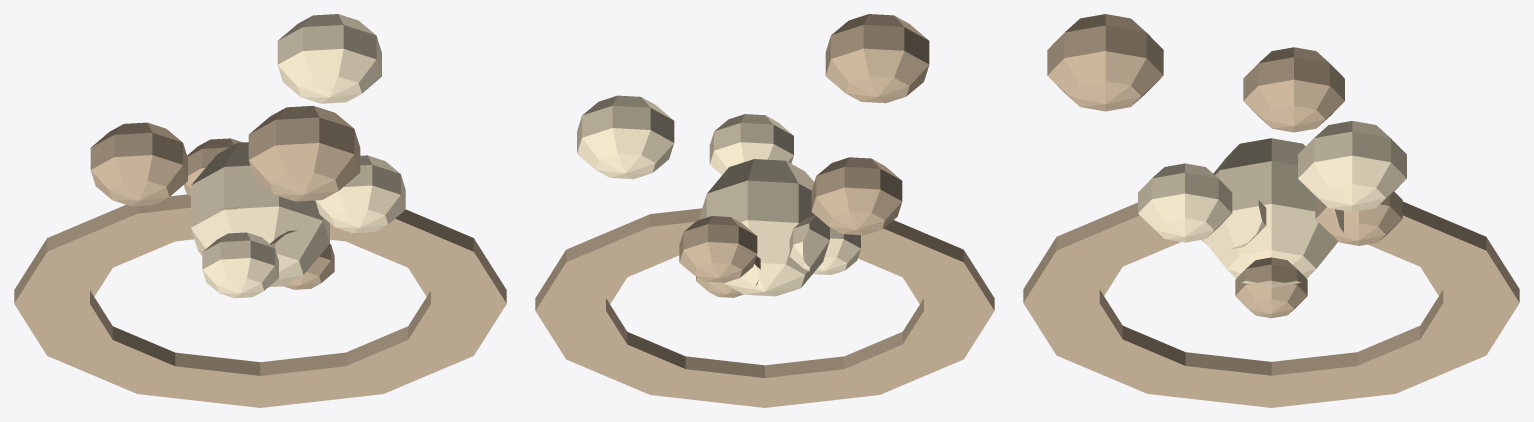
The model's file is frontier-dust-impact-mesh__249.glb.
3 views of the same model, side by side, from view 1: azimuth 30°, elevation 25°; view 2: azimuth 150°, elevation 25°; view 3: azimuth 270°, elevation 25° (orthographic). The views are drawn at different scales.
Visible parts, largest first — view 1: frontier-post-dust-impact; view 2: frontier-post-dust-impact; view 3: frontier-post-dust-impact.
Part boxes in pixels (<box>): frontier-post-dust-impact: <box>14,14,506,407</box>; frontier-post-dust-impact: <box>535,14,994,407</box>; frontier-post-dust-impact: <box>1023,14,1519,407</box>.
Bounding box in the file's own units: 1.3 × 0.76 × 1.3.
